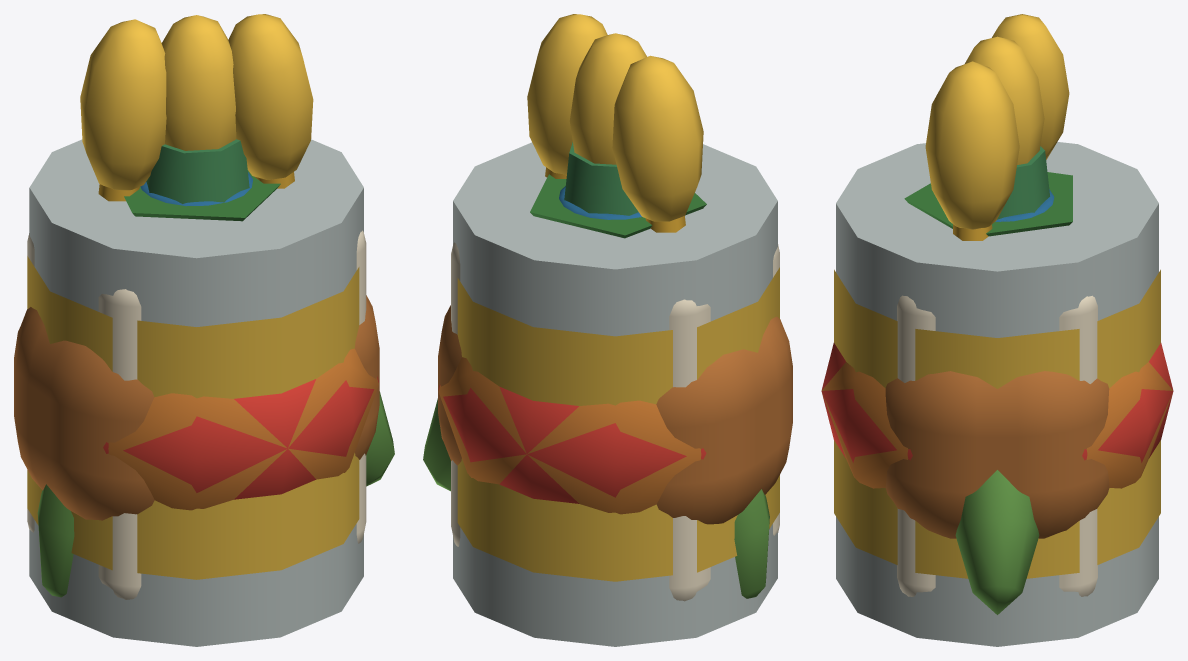
File: carry-products.glb
3 views of the same model, side by side, from view 1: azimuth 30°, elevation 25°; view 2: azimuth 150°, elevation 25°; view 3: azimuth 270°, elevation 25° (orthographic). The views are drawn at different scales.
Visible parts, largest first — view 1: n55, n56, n16, n43, n6, n46, n12, n9, n14, n52, n20, n40 (+2 smaller); view 2: n55, n56, n16, n43, n6, n46, n12, n14, n9, n52, n20, n40 (+2 smaller); view 3: n55, n56, n16, n12, n21, n14, n46, n43, n6, n9, n40, n52.
Boxes of the visible parts, x1,y1,x2,y2 form: n55: (29, 139, 363, 646); n56: (27, 256, 359, 579); n16: (14, 295, 379, 520); n43: (103, 376, 378, 499); n6: (80, 19, 166, 190); n46: (108, 348, 378, 510); n12: (228, 14, 313, 179); n9: (161, 15, 236, 150); n14: (27, 230, 366, 599); n52: (146, 139, 249, 203); n20: (37, 484, 74, 597); n40: (124, 170, 280, 221); n55: (453, 142, 777, 646); n56: (457, 267, 779, 581); n16: (438, 305, 792, 524); n43: (438, 384, 706, 503); n6: (612, 55, 703, 221); n46: (438, 357, 701, 514); n12: (527, 14, 607, 174); n14: (451, 242, 779, 601); n9: (569, 33, 646, 164); n52: (564, 142, 638, 215); n20: (734, 489, 769, 598); n40: (530, 174, 706, 238); n55: (836, 142, 1158, 646); n56: (834, 269, 1160, 578); n16: (885, 371, 1109, 538); n12: (925, 61, 1019, 229); n21: (955, 470, 1039, 614); n14: (897, 295, 1097, 596); n46: (822, 362, 1172, 488); n43: (821, 343, 1173, 462); n6: (992, 14, 1069, 159); n9: (965, 36, 1044, 164); n40: (904, 172, 1072, 236); n52: (997, 146, 1049, 219).
Size of the model in its own units: 0.1908 by 0.2927 by 0.17.
18 materials, 3 textured.
